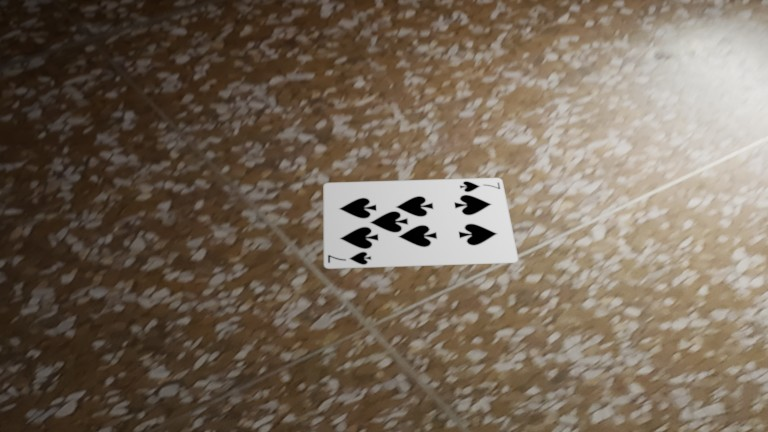7_of_spades: (327, 249, 372, 267), (458, 179, 502, 195)
